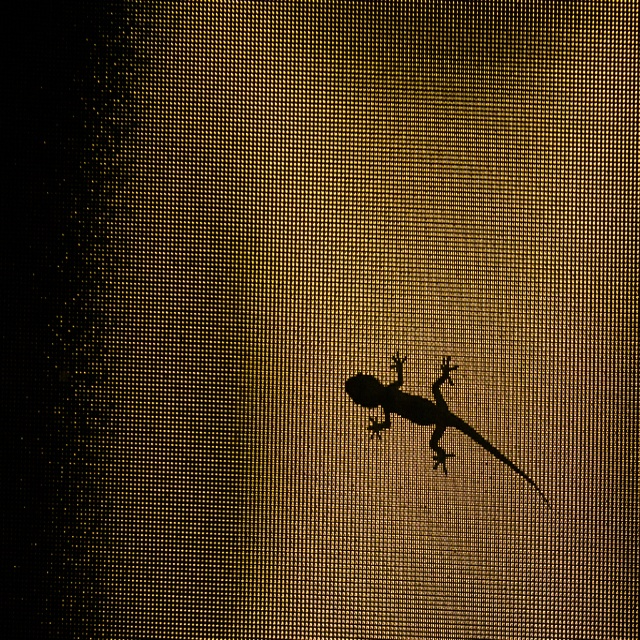Lizard: (359, 361, 520, 491)
